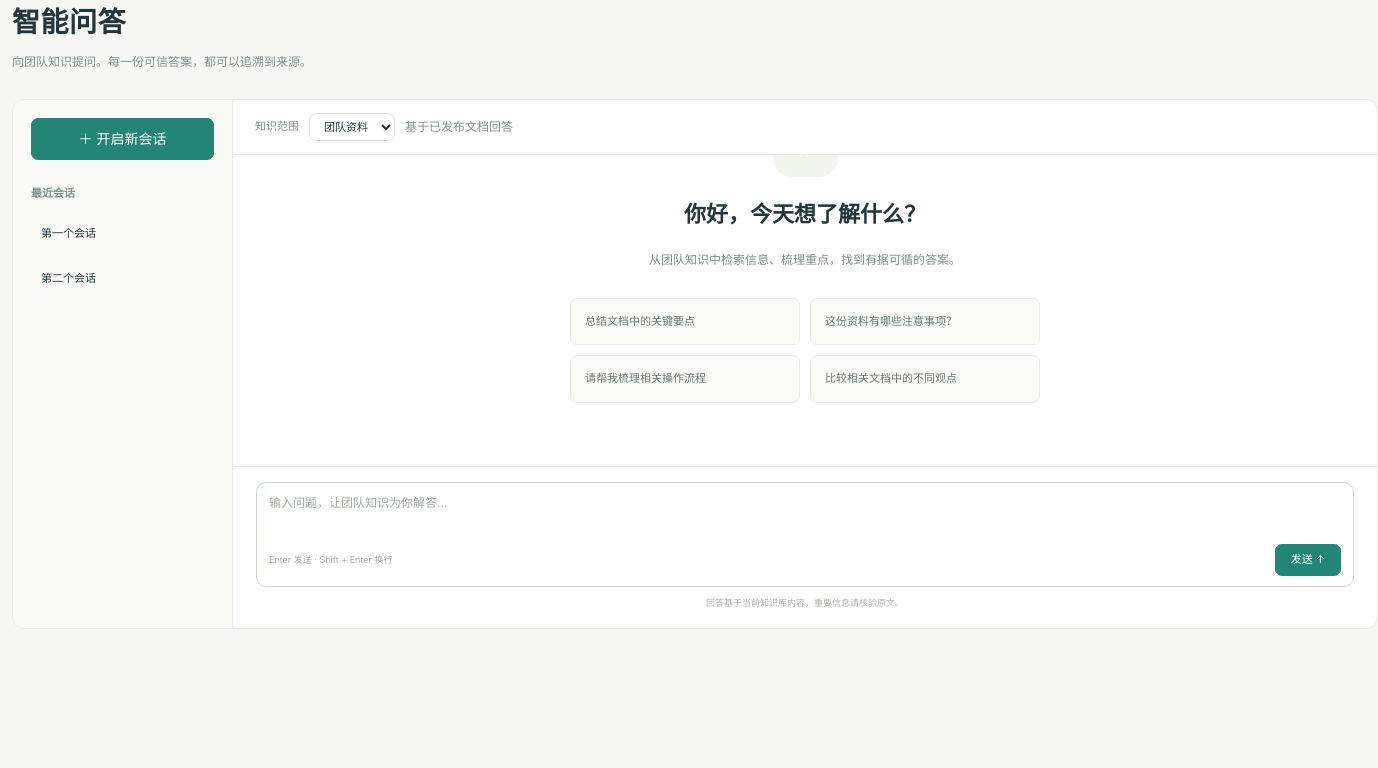
Test case: Chat › ignores a late history response after changing sessions
The width and height of the screenshot is (1378, 768).
(page scrolled)
What coordinates should you click on to do the following:
click the button "第一个会话"
I would click on:
 (122, 234)
Its box is [31, 215, 214, 253].
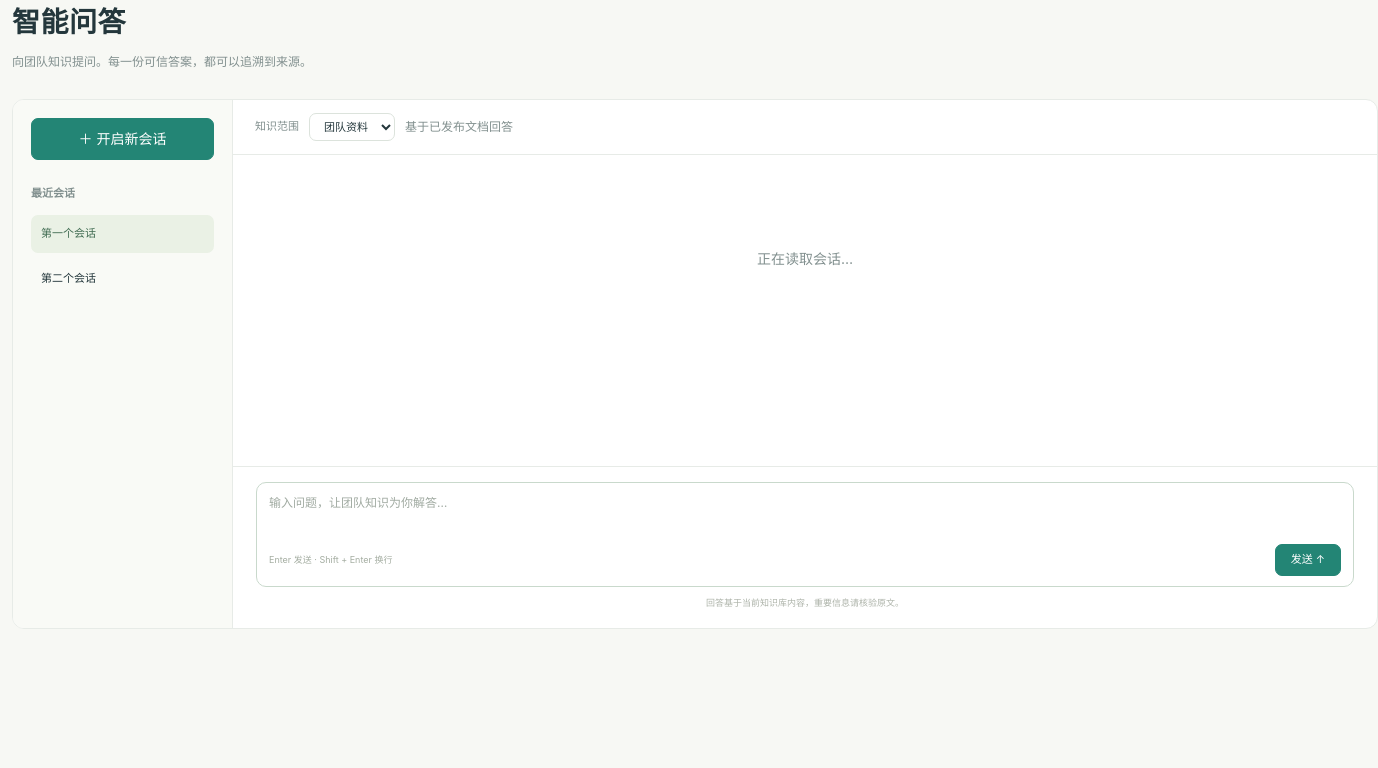
What coordinates should you click on to do the following:
click the button "第二个会话"
I would click on:
 (122, 278)
Its box is [31, 260, 214, 297].
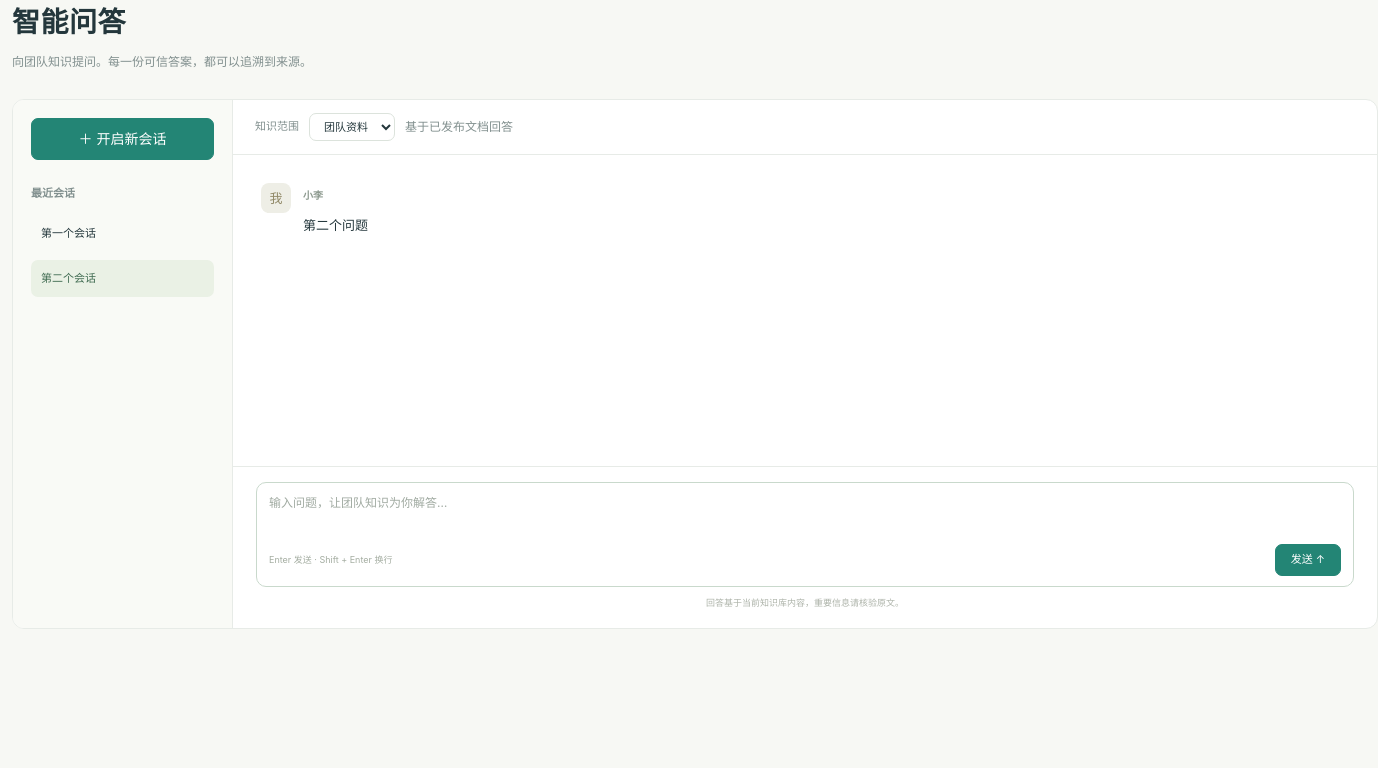
Expected: the text "第二个问题" is shown, [303, 217, 368, 233]
